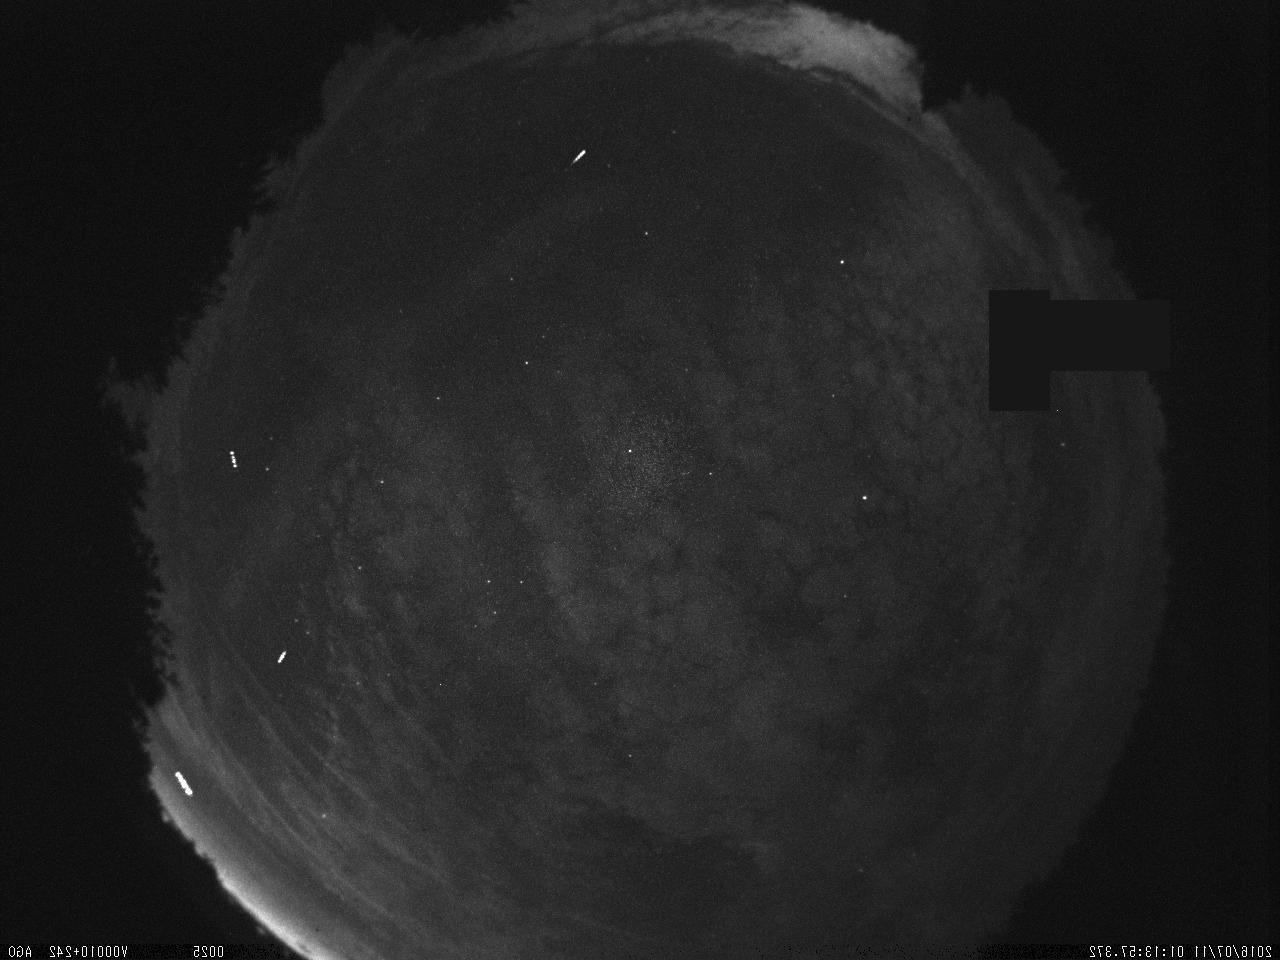meteor: (561, 142, 593, 170)
satelite: (166, 761, 199, 807), (225, 443, 245, 481), (273, 645, 292, 675)
